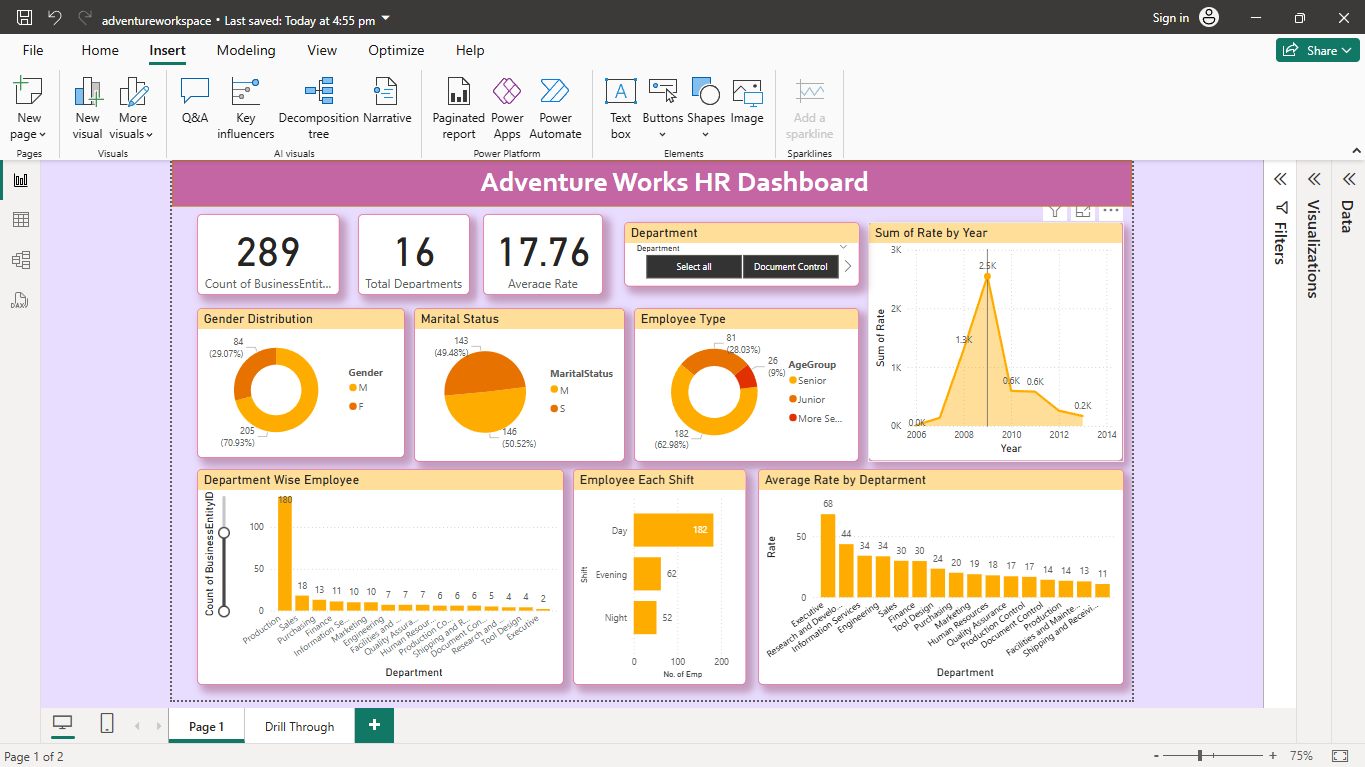

Layout of this report page (visuals, bound fields, positions):
{"tool":"powerbi","page":{"name":"Page 1","canvas":[1280,720],"ordinal":0},"visuals":[{"type":"donutChart","title":"Gender Distribution","fields":{"Category":["GOLD ext_employee.Gender"],"Y":["CountNonNull(GOLD ext_employee.BusinessEntityID)"]},"box":[33.8,196.9,277.1,199.7],"z":0},{"type":"pieChart","title":"Marital Status","fields":{"Category":["GOLD ext_employee.MaritalStatus"],"Y":["CountNonNull(GOLD ext_employee.BusinessEntityID)"]},"box":[322.1,196.9,281.3,205.4],"z":1000},{"type":"donutChart","title":"Employee Type","fields":{"Category":["GOLD ext_employee.AgeGroup"],"Y":["CountNonNull(GOLD ext_employee.BusinessEntityID)"]},"box":[616.1,196.9,299.6,205.4],"z":2000},{"type":"lineChart","fields":{"Category":["GOLD ext_emppayhist.Year"],"Y":["Sum(GOLD ext_emppayhist.Rate)"]},"box":[928.4,83,340.4,319.3],"z":3000},{"type":"card","fields":{"Values":["CountNonNull(GOLD ext_employee.BusinessEntityID)"]},"box":[33.8,71.7,189.9,108.3],"z":4000},{"type":"clusteredColumnChart","title":"Department Wise Employee","fields":{"Category":["GOLD ext_department.Name"],"Y":["CountNonNull(GOLD ext_empdepthist.BusinessEntityID)"]},"box":[33.3,412,489.3,288],"z":5000},{"type":"barChart","title":"Employee Each Shift ","fields":{"Category":["GOLD ext_shift.Name"],"Y":["CountNonNull(GOLD ext_empdepthist.BusinessEntityID)"]},"box":[534.7,412,230.7,288],"z":6000},{"type":"slicer","title":"Department","fields":{"Values":["GOLD ext_department.Name"]},"box":[602,83,313.7,85.8],"z":7000},{"type":"card","fields":{"Values":["GOLD ext_department.Total Departments"]},"box":[247.6,71.7,149.1,108.3],"z":8000},{"type":"card","fields":{"Values":["GOLD ext_emppayhist.Average Salary"]},"box":[414.9,71.7,160.4,108.3],"z":9000},{"type":"columnChart","title":"Average Rate by Deptarment","fields":{"Category":["GOLD ext_department.Name"],"Y":["GOLD ext_emppayhist.Average Rate"]},"box":[781.3,412,488,288],"z":10000},{"type":"shape","box":[0,0,1280,61.9],"z":11000},{"type":"textbox","box":[153.3,0,1033.8,94.2],"z":12000}]}

Visuals, with their boxes on the page's 1280x720 design canvas (x1, y1, x2, y2). These are canvas units, not pixel positions in the 1365x767 screenshot, which may show the page scaled, cropped or inside an application window:
"Gender Distribution" donutChart: box=[34, 197, 311, 397]
"Marital Status" pieChart: box=[322, 197, 603, 402]
"Employee Type" donutChart: box=[616, 197, 916, 402]
lineChart - GOLD ext_emppayhist.Year x Sum(GOLD ext_emppayhist.Rate): box=[928, 83, 1269, 402]
card - CountNonNull(GOLD ext_employee.BusinessEntityID): box=[34, 72, 224, 180]
"Department Wise Employee" clusteredColumnChart: box=[33, 412, 523, 700]
"Employee Each Shift " barChart: box=[535, 412, 765, 700]
"Department" slicer: box=[602, 83, 916, 169]
card - GOLD ext_department.Total Departments: box=[248, 72, 397, 180]
card - GOLD ext_emppayhist.Average Salary: box=[415, 72, 575, 180]
"Average Rate by Deptarment" columnChart: box=[781, 412, 1269, 700]
shape: box=[0, 0, 1280, 62]
textbox: box=[153, 0, 1187, 94]
